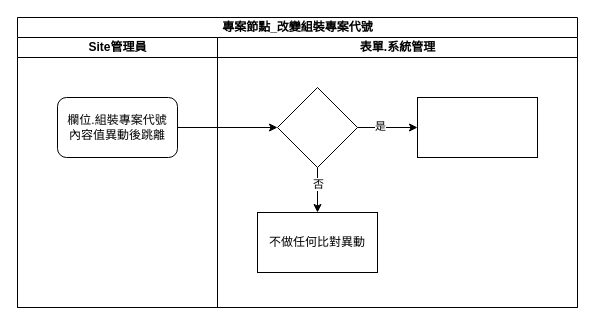
The diagram is 595 pixels wide and 325 high, and some of its shapes have lost their labels. The shapes that lost their labels are listed below. From the top down, each one's centre as x and y in pixels, then its label:
the point at 317,127: 已安裝 該專案
the point at 477,127: 專案名稱 各語系比對異動
